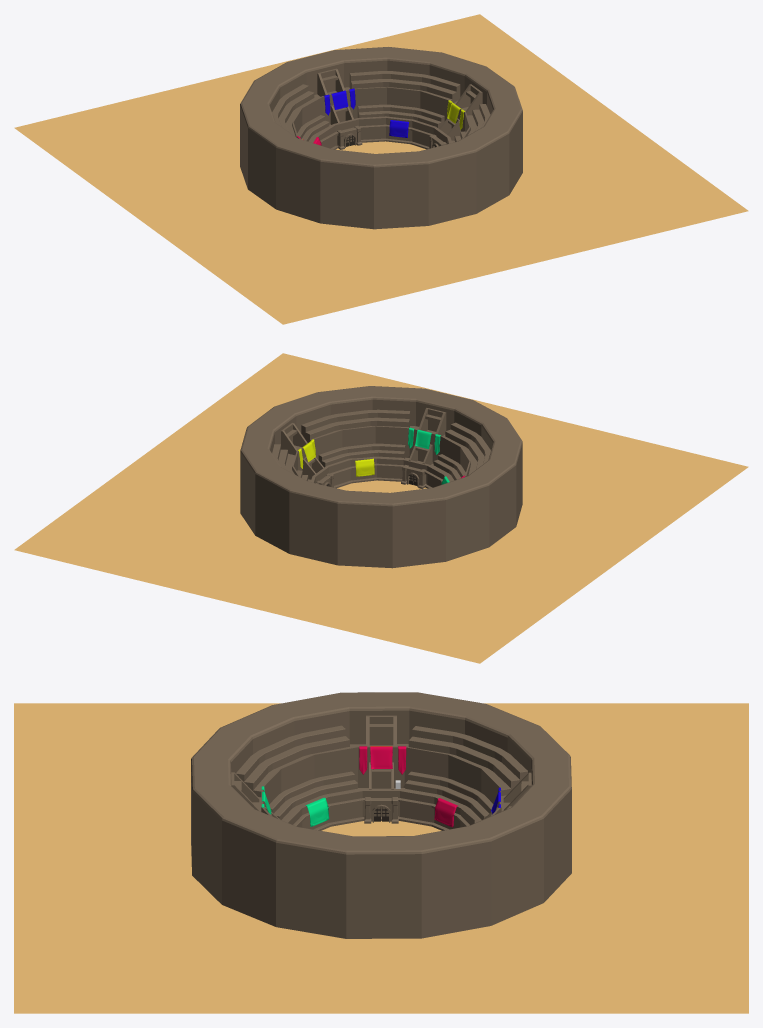
Rendered from calloseum.fbx.
3 renders of one model, top to bottom at view 1: azimuth 30°, elevation 25°; view 2: azimuth 150°, elevation 25°; view 3: azimuth 270°, elevation 25°, orthographic. The views are drawn at different scales.
Parts seen in each view (by area): view 1: Plane, Cylinder.002, Cylinder.005, Cylinder.004, Cube.012, Cube.011, Cube.014, Cube.032, Cube.023; view 2: Plane, Cylinder.002, Cylinder.005, Cube.010, Cylinder.004, Cube.006, Cube.008, Cube.017, Cube.023; view 3: Plane, Cylinder.002, Cylinder.005, Cylinder.004, Cube.014, Cube.008, Cube.009, Cube.013, Cube.007, Cube.002, Cylinder.008.
Boxes of the visible parts, <box> form: Plane: <box>14,14,748,324</box>; Cylinder.002: <box>240,47,522,229</box>; Cylinder.005: <box>292,87,470,139</box>; Cylinder.004: <box>311,116,451,148</box>; Cube.012: <box>349,71,460,102</box>; Cube.011: <box>357,104,444,128</box>; Cube.014: <box>272,84,316,136</box>; Cube.032: <box>317,68,345,96</box>; Cube.023: <box>455,84,482,115</box>; Plane: <box>14,353,748,663</box>; Cylinder.002: <box>240,386,522,568</box>; Cylinder.005: <box>292,426,470,477</box>; Cube.010: <box>301,409,410,442</box>; Cylinder.004: <box>311,457,451,487</box>; Cube.006: <box>318,443,405,467</box>; Cube.008: <box>444,422,490,474</box>; Cube.017: <box>418,408,446,435</box>; Cube.023: <box>281,423,307,455</box>; Plane: <box>14,703,748,1013</box>; Cylinder.002: <box>191,692,571,938</box>; Cylinder.005: <box>261,746,501,816</box>; Cylinder.004: <box>285,789,478,829</box>; Cube.014: <box>408,726,527,795</box>; Cube.008: <box>236,725,349,797</box>; Cube.009: <box>269,771,358,821</box>; Cube.013: <box>405,771,493,821</box>; Cube.007: <box>366,715,396,746</box>; Cube.002: <box>364,797,398,823</box>; Cylinder.008: <box>293,798,469,826</box>.
Size of the model in its own units: 14483 by 1916 by 14483.
